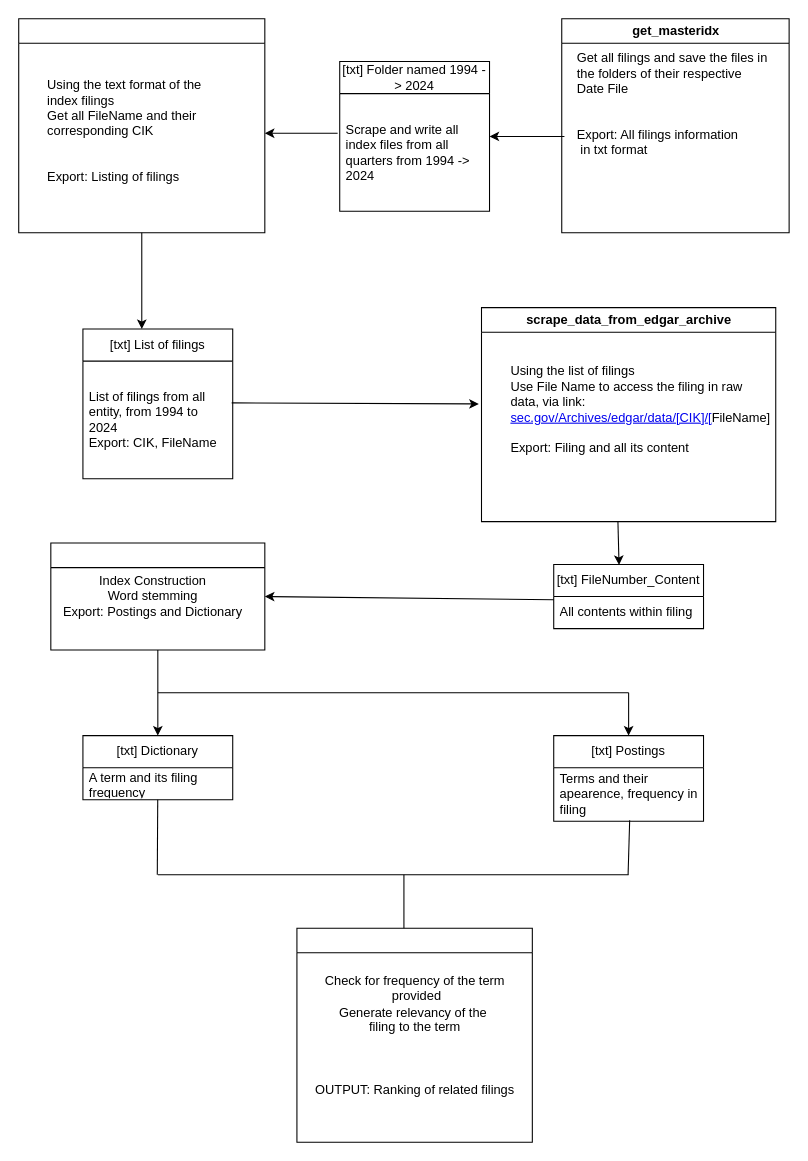
This 808x1161 diagram has some shape labels left out. Here are the shapes that lost their labels. From the top down, the box of each, then its label:
(18, 18, 265, 233): collect_entity_filings.py
(50, 542, 265, 650): invert.py
(296, 927, 532, 1142): main.py
